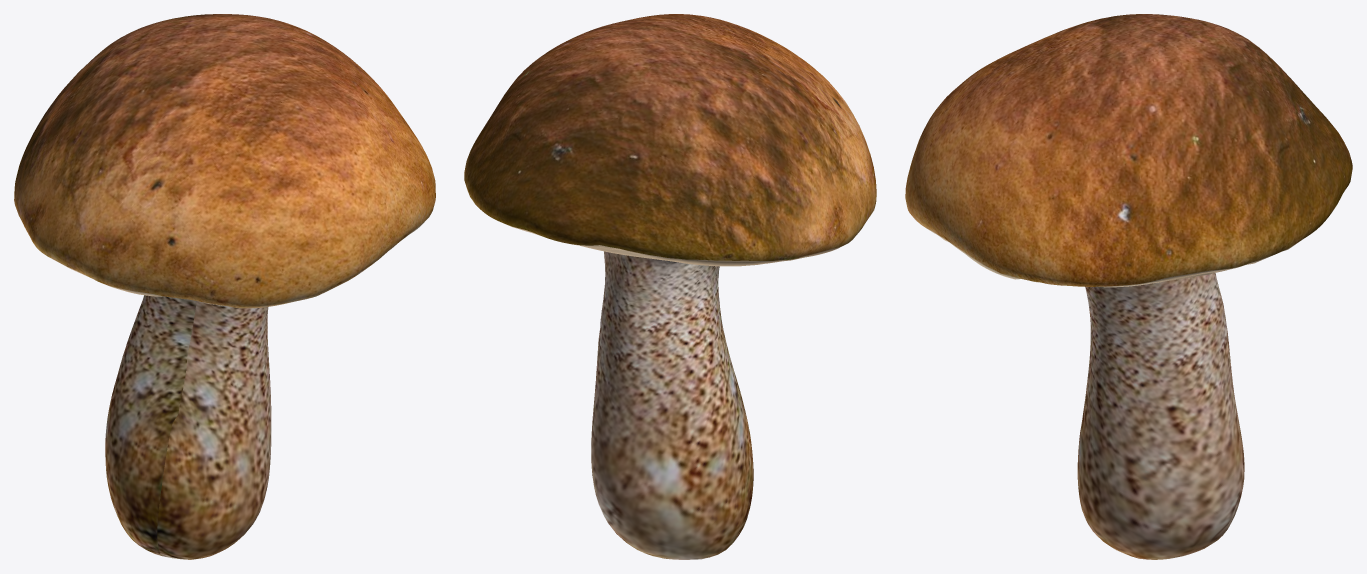
Rendered from SENE_09.fbx.
3 views of the same model, side by side, from view 1: azimuth 30°, elevation 25°; view 2: azimuth 150°, elevation 25°; view 3: azimuth 270°, elevation 25° (orthographic). The views are drawn at different scales.
Visible parts, largest first — view 1: SENE_46; view 2: SENE_46; view 3: SENE_46.
Boxes of the visible parts, left/top/right/bottom form: SENE_46: left=14, top=14, right=435, bottom=559; SENE_46: left=464, top=14, right=876, bottom=559; SENE_46: left=905, top=14, right=1352, bottom=559.
Size of the model in its own units: 72.64 by 96.87 by 74.89.
Materials: 1 (1 with a texture image).
